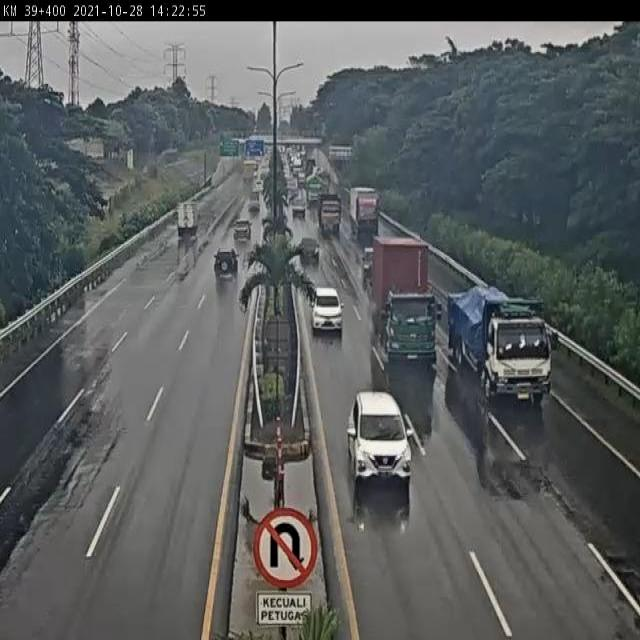Car: (342, 387, 416, 486), (310, 285, 345, 336), (213, 249, 240, 284), (300, 235, 320, 268), (233, 222, 252, 246), (290, 198, 308, 222)
Truck: (447, 286, 561, 404), (371, 238, 444, 361), (348, 184, 384, 239), (318, 194, 345, 238), (174, 201, 198, 238), (304, 173, 324, 206)
